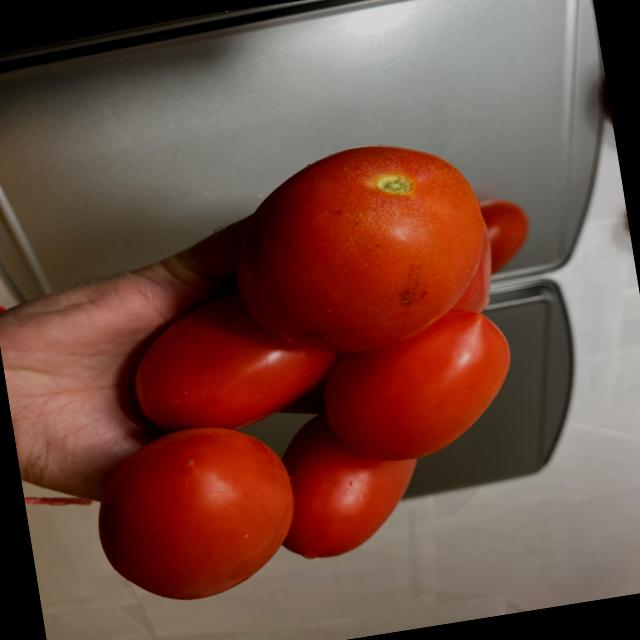tomato: (42, 126, 578, 614)
